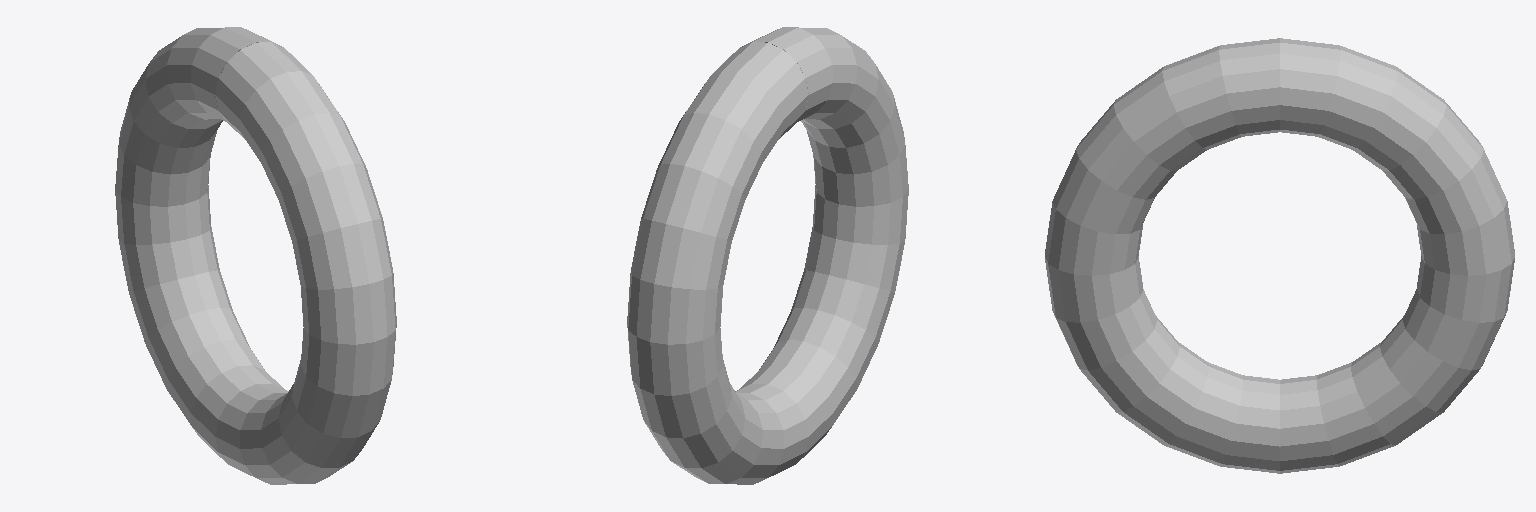
Rendered from taurus2.obj.
3 renders of one model, left to right at view 1: azimuth 30°, elevation 25°; view 2: azimuth 150°, elevation 25°; view 3: azimuth 270°, elevation 25°, orthographic.
Parts seen in each view (by area): view 1: Torus.014; view 2: Torus.014; view 3: Torus.014.
Boxes of the visible parts, box(x1,y1,x2,y2) form: Torus.014: box(115, 27, 396, 484); Torus.014: box(627, 27, 908, 484); Torus.014: box(1045, 38, 1514, 473).
Size of the model in its own units: 0.5 by 2.5 by 2.5.